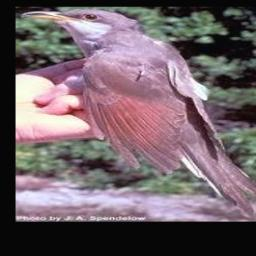Cuckoo: (23, 8, 256, 218)
